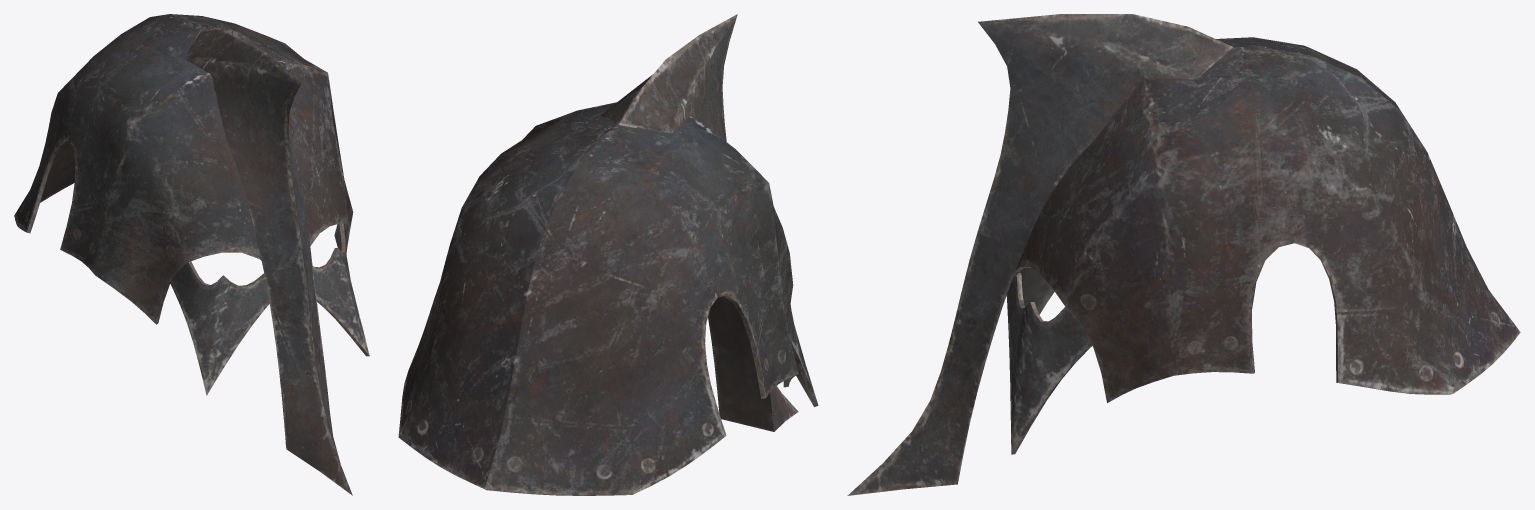
Rendered from sk_dg_uruk_helmet_heavy_c.fbx.
3 views of the same model, side by side, from view 1: azimuth 30°, elevation 25°; view 2: azimuth 150°, elevation 25°; view 3: azimuth 270°, elevation 25° (orthographic). The views are drawn at different scales.
Parts seen in each view (by area): view 1: sk_dg_uruk_helmet_heavy_c; view 2: sk_dg_uruk_helmet_heavy_c; view 3: sk_dg_uruk_helmet_heavy_c.
Part boxes in pixels (x1,y1,x2,y2): sk_dg_uruk_helmet_heavy_c: (14,14,369,495); sk_dg_uruk_helmet_heavy_c: (398,14,818,495); sk_dg_uruk_helmet_heavy_c: (847,14,1520,495).
Bounding box in the file's own units: 0.2306 × 0.4002 × 0.316.
1 material, 1 textured.
